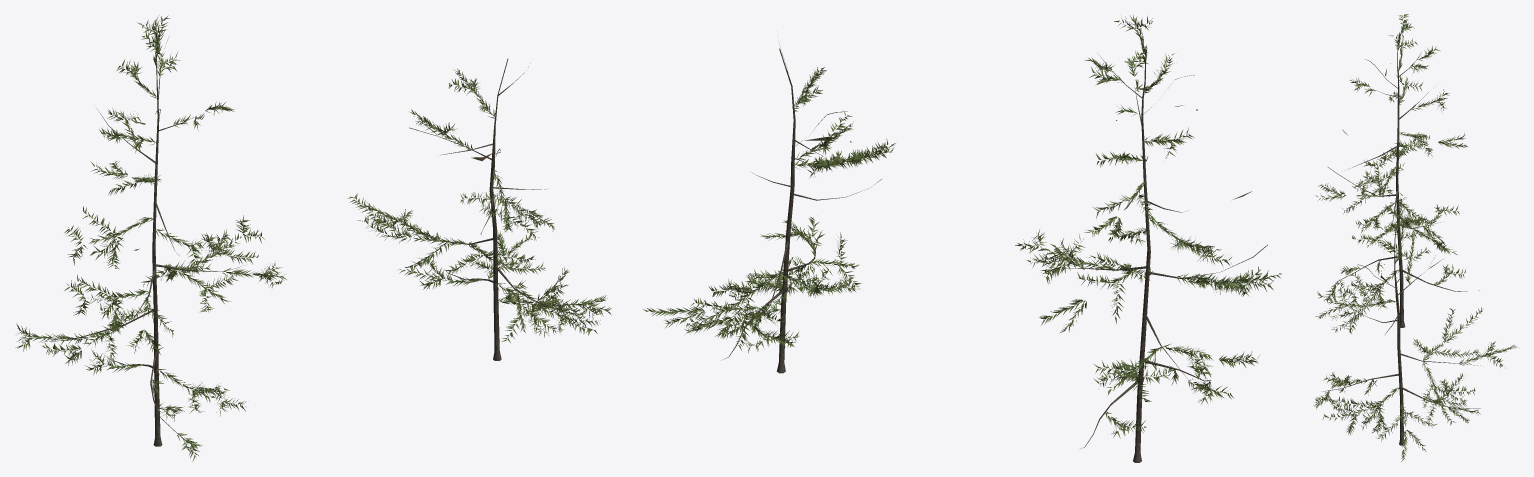
File: fir_small_a_lod0.gltf
3 views of the same model, side by side, from view 1: azimuth 30°, elevation 25°; view 2: azimuth 150°, elevation 25°; view 3: azimuth 270°, elevation 25° (orthographic). The views are drawn at different scales.
Parts seen in each view (by area): view 1: fir_sapling_a, fir_sapling_b, fir_sapling_a.001, fir_sapling_b.001; view 2: fir_sapling_a, fir_sapling_b, fir_sapling_a.001, fir_sapling_b.001; view 3: fir_sapling_b, fir_sapling_a, fir_sapling_a.001, fir_sapling_b.001.
Boxes of the visible parts, x1,y1,x2,y2 form: fir_sapling_a: (15, 15, 286, 461); fir_sapling_b: (347, 68, 611, 342); fir_sapling_a.001: (41, 37, 240, 446); fir_sapling_b.001: (409, 58, 580, 360); fir_sapling_a: (1015, 15, 1281, 438); fir_sapling_b: (643, 67, 895, 352); fir_sapling_a.001: (1066, 46, 1267, 462); fir_sapling_b.001: (723, 43, 881, 373); fir_sapling_b: (1313, 215, 1517, 461); fir_sapling_a: (1315, 14, 1467, 311); fir_sapling_a.001: (1328, 40, 1479, 327); fir_sapling_b.001: (1321, 227, 1480, 445).
Bounding box in the file's own units: 1.62 × 1.21 × 0.7394.
2 materials, 2 textured.
